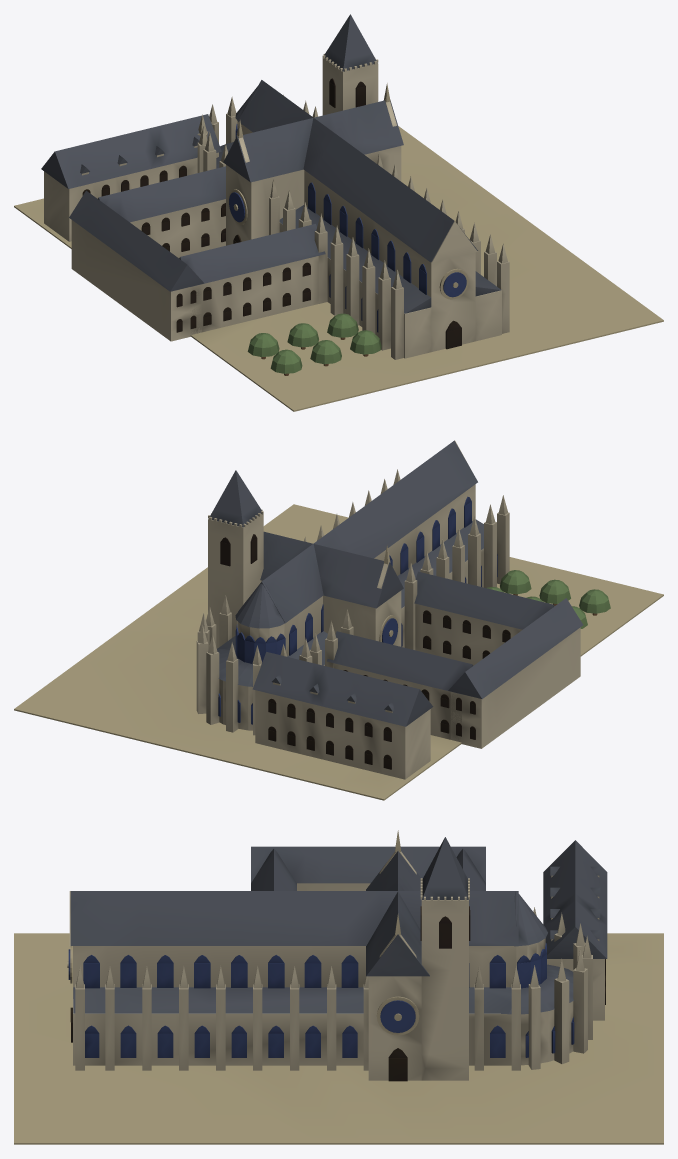
File: sainte-genevieve-abbey.glb
The picture shows the model from 3 angles, top to bottom: view 1: azimuth 30°, elevation 25°; view 2: azimuth 150°, elevation 25°; view 3: azimuth 270°, elevation 25°; orthographic projection. The views are drawn at different scales.
Parts seen in each view (by area): view 1: p1_roofs, p0_walls, p2_tower; view 2: p1_roofs, p0_walls, p2_tower; view 3: p0_walls, p1_roofs, p2_tower.
Boxes of the visible parts, bbox=[...] form: p1_roofs: bbox=[41, 80, 509, 375]; p0_walls: bbox=[14, 83, 663, 411]; p2_tower: bbox=[322, 14, 378, 115]; p1_roofs: bbox=[196, 440, 610, 779]; p0_walls: bbox=[14, 440, 663, 800]; p2_tower: bbox=[208, 470, 263, 648]; p0_walls: bbox=[14, 830, 663, 1144]; p1_roofs: bbox=[70, 840, 607, 1070]; p2_tower: bbox=[420, 837, 470, 1080].
Bounding box in the file's own units: 88.9 × 44.04 × 110.
